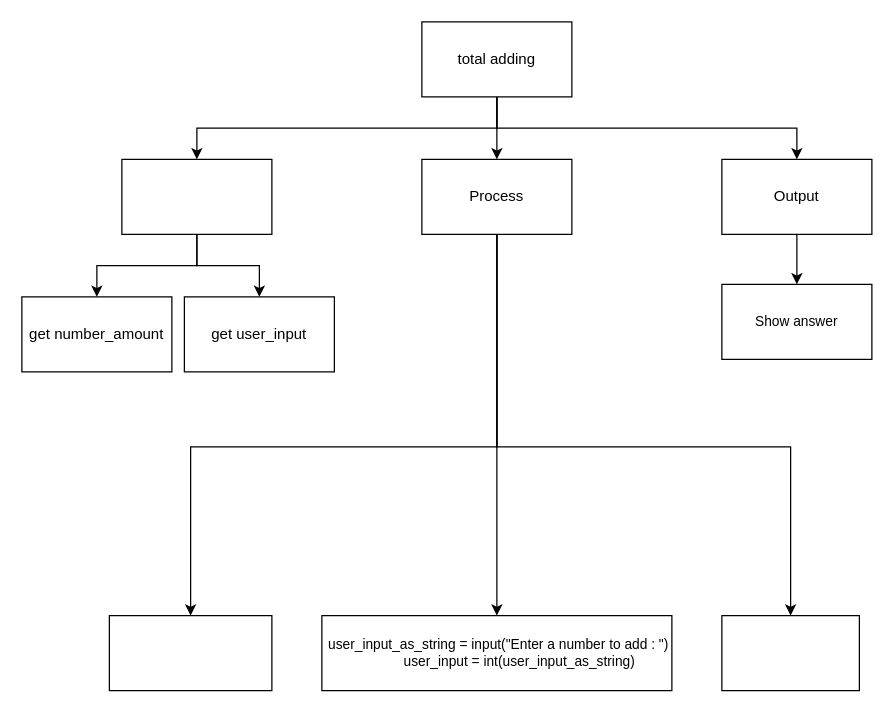
Some shapes in this 894 by 713 pixel diagram are drawn without their labels. The shapes that lost their labels are listed below. From the top down, each one's box as (x1, y1, x2, y2) in pixels, then its label:
(121, 158, 272, 234): Input
(108, 614, 272, 691): for loop_counter in range(number_amount):
(721, 614, 859, 691): if user_input < 0: continue total += user_input
